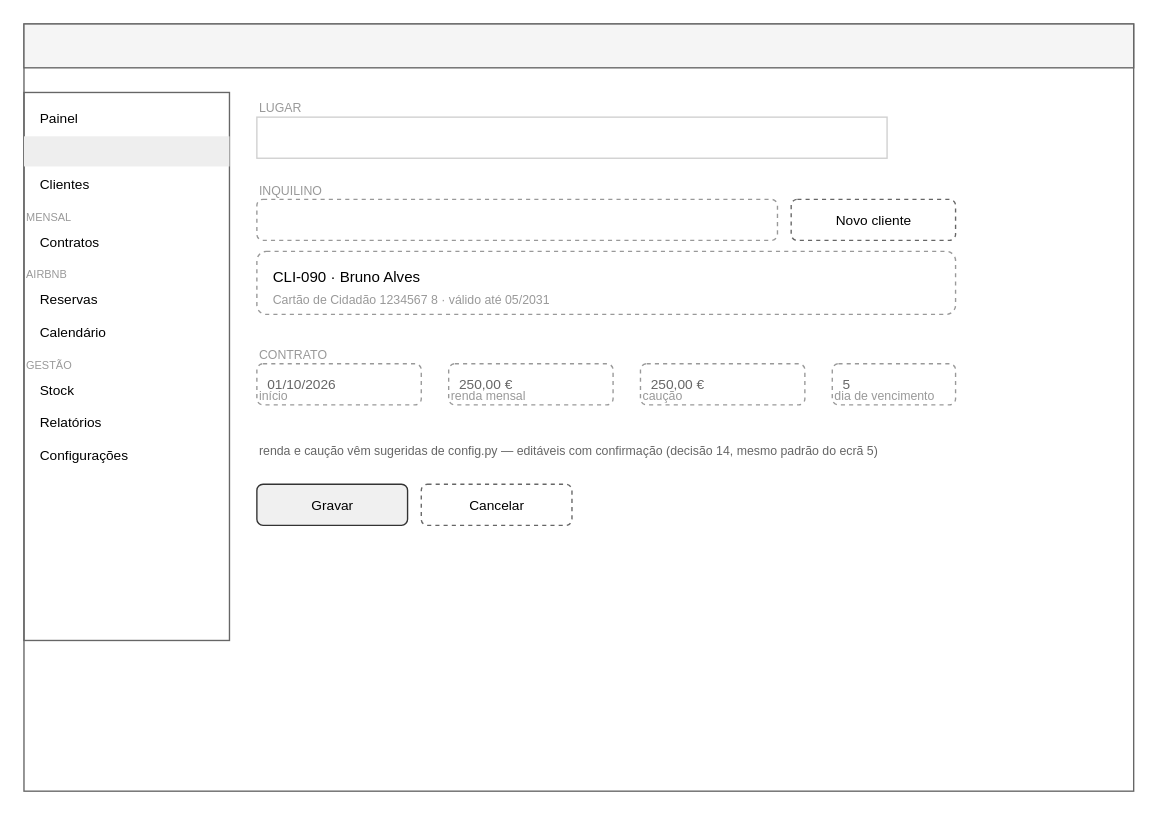
Some shapes in this 1158 by 815 pixel diagram are drawn without their labels. Each missing label, with the centre of its shape:
Foz Velha · Quarto 3 (partilhado) · Lugar LUG-006: (571,137)
procurar cliente…: (516,219)
Unidades: (126,151)
← Unidades · Novo contrato — Foz Velha: (578,45)
